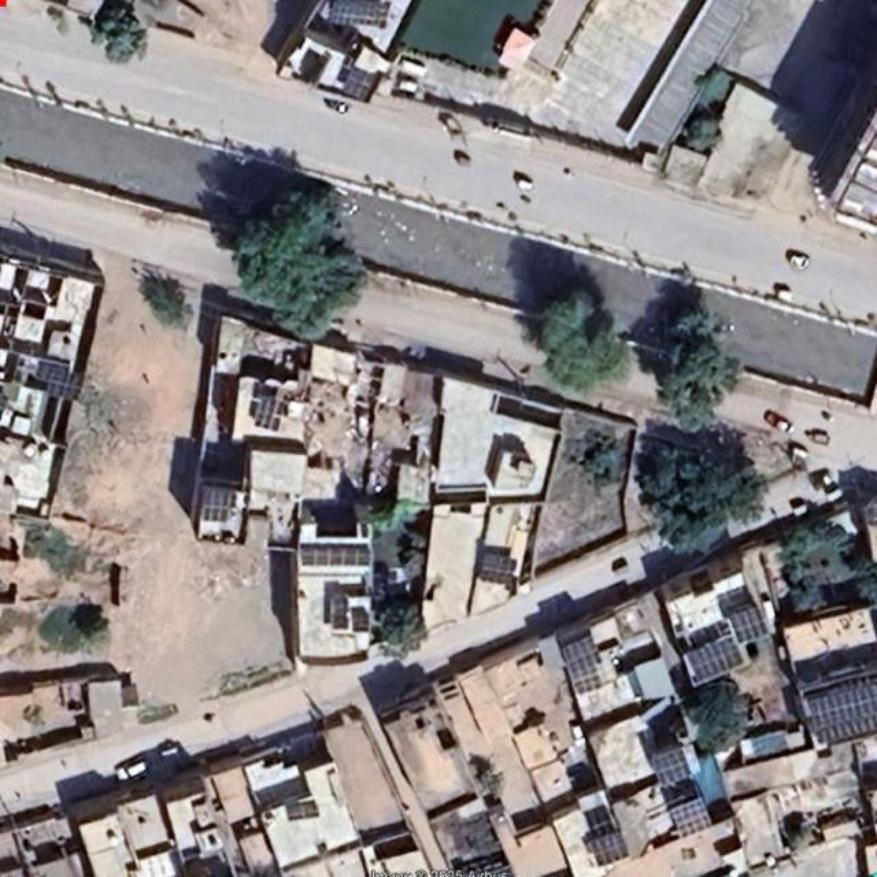Solarpanel: (806, 679, 876, 743), (689, 637, 746, 681), (562, 640, 603, 697), (34, 362, 84, 399), (670, 799, 714, 838), (727, 604, 770, 642), (332, 0, 392, 26), (650, 750, 692, 787), (302, 545, 370, 567), (590, 829, 627, 866), (339, 67, 375, 100), (481, 554, 513, 588), (203, 488, 235, 517)
